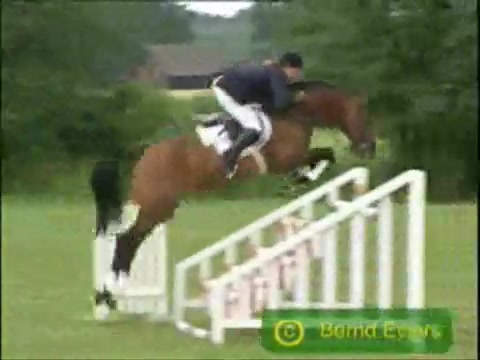horse: (90, 81, 379, 321)
